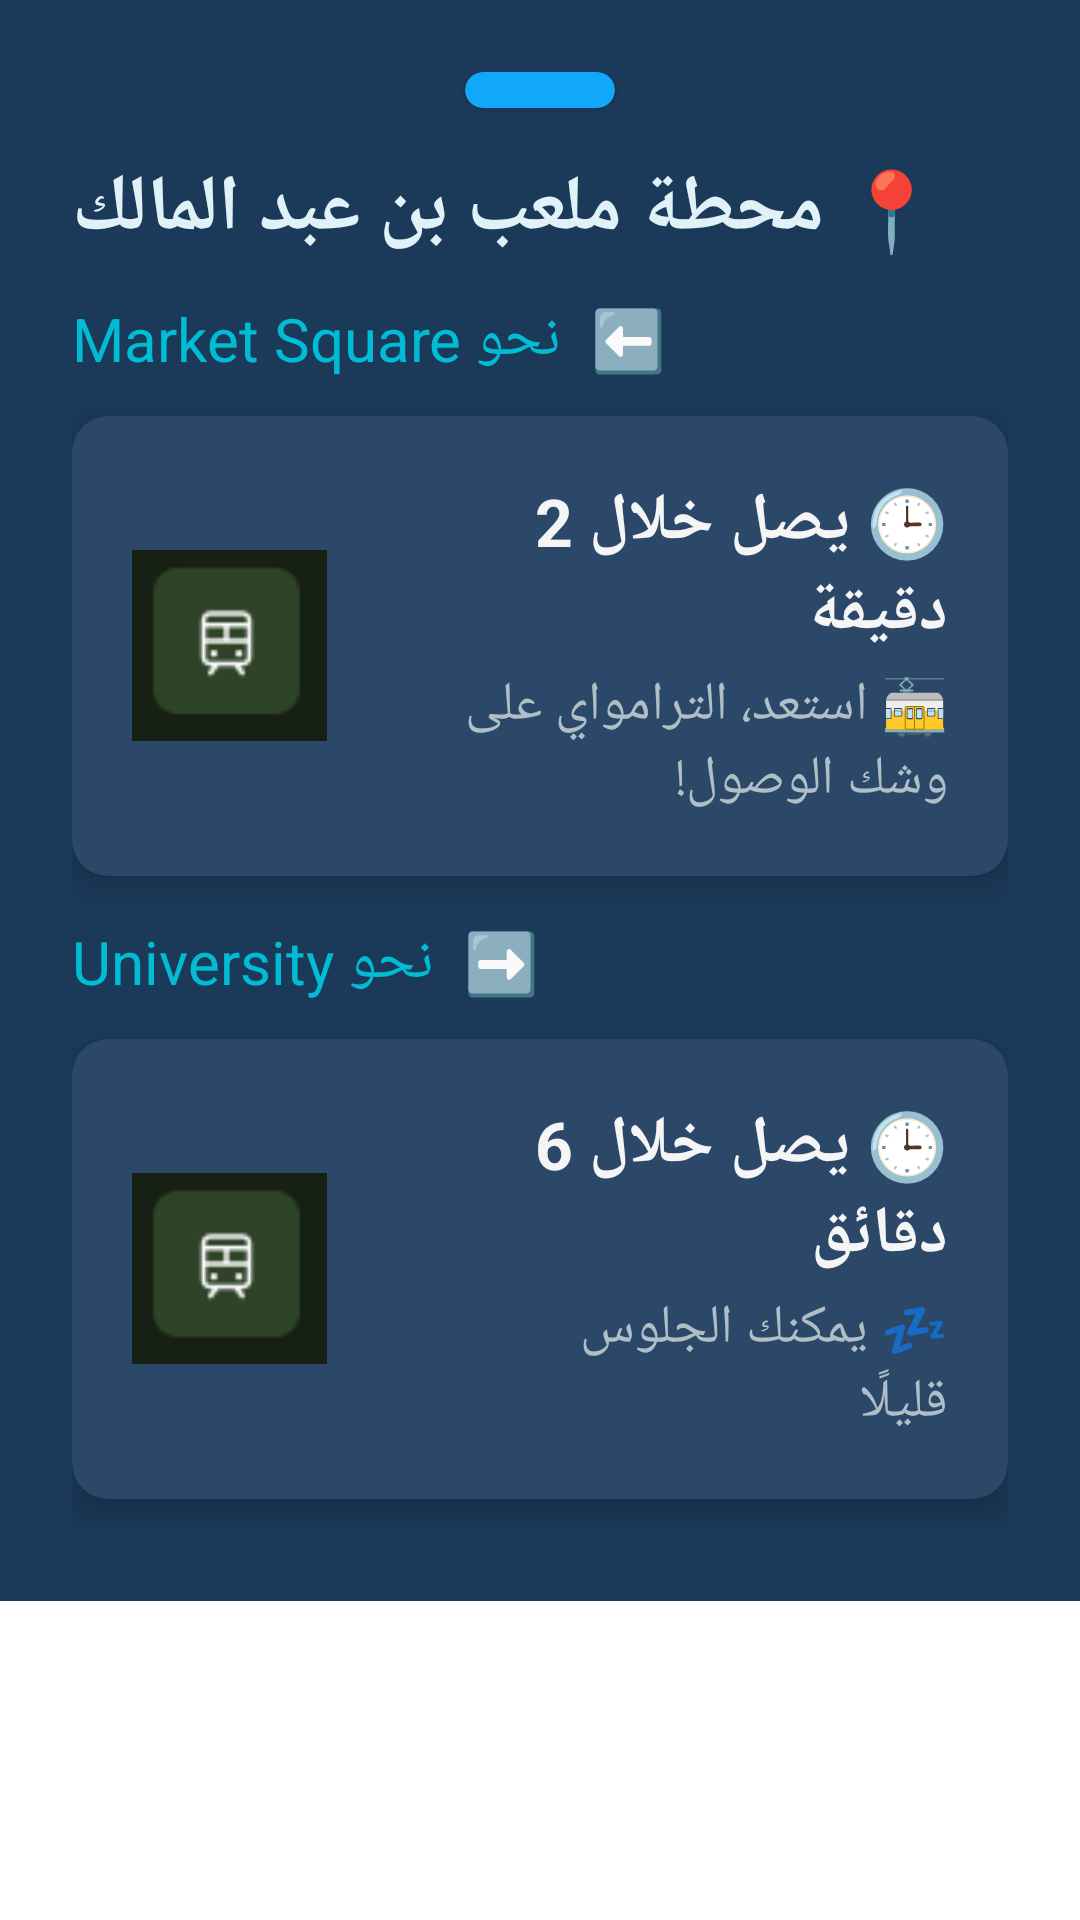

Where icons sit on this 1080×1920 app screen, as rect(x1, y1, x2, y2):
tramwaylist: rect(132, 550, 327, 741), rect(132, 1173, 327, 1364)
